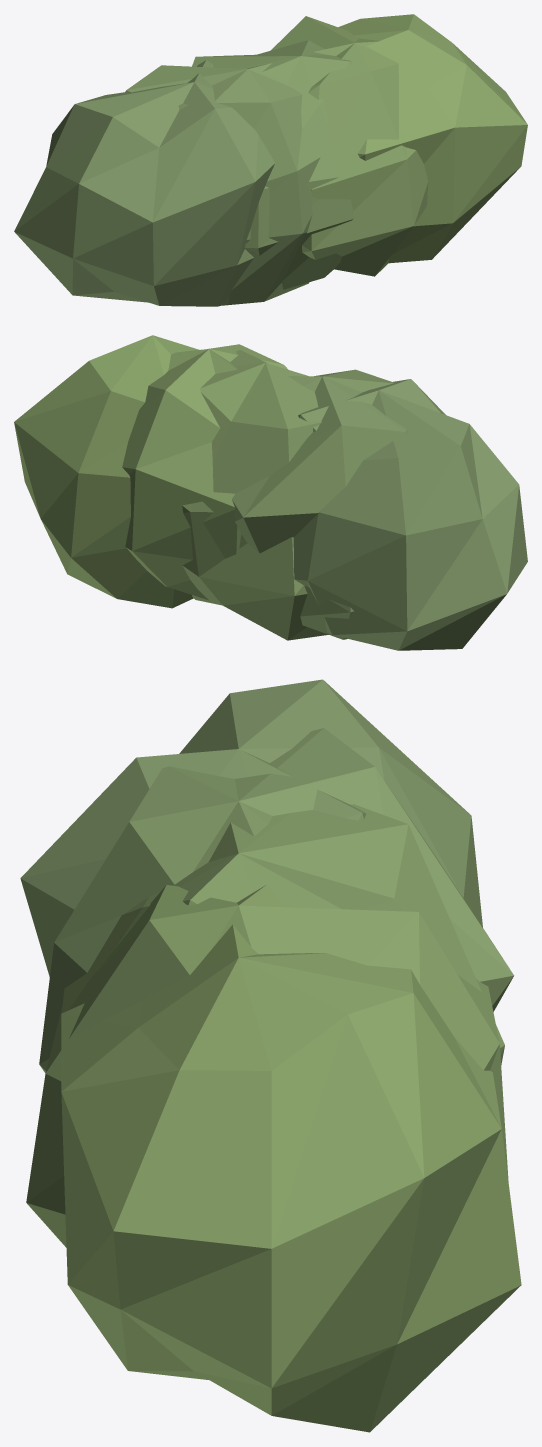
3 views of the same model, one above another, from view 1: azimuth 30°, elevation 25°; view 2: azimuth 150°, elevation 25°; view 3: azimuth 270°, elevation 25° (orthographic). The views are drawn at different scales.
Size of the model in its own units: 3.35 by 1.5 by 1.52.
